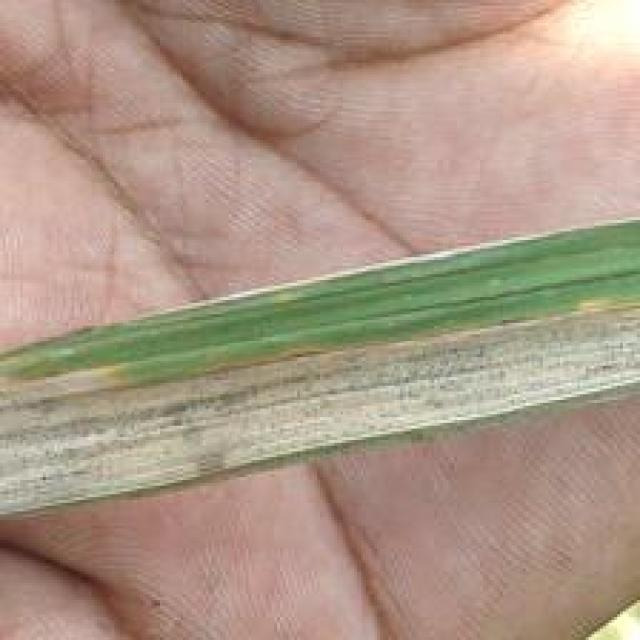Rice_Bacterial_Blight: (88, 314, 638, 460)
